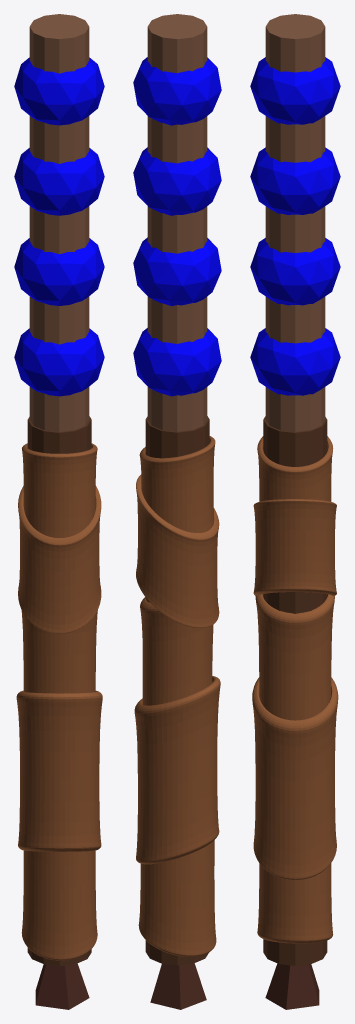
The model's file is Wand 338.glb.
The picture shows the model from 3 angles, left to right: view 1: azimuth 90°, elevation 25°; view 2: azimuth 150°, elevation 25°; view 3: azimuth 270°, elevation 25°; orthographic projection.
Parts seen in each view (by area): view 1: GeneratedWand; view 2: GeneratedWand; view 3: GeneratedWand.
Boxes of the visible parts, left/top/right/bottom form: GeneratedWand: left=14, top=14, right=104, bottom=1009; GeneratedWand: left=133, top=14, right=221, bottom=1009; GeneratedWand: left=250, top=14, right=340, bottom=1009.
Size of the model in its own units: 0.0408 by 0.5074 by 0.0428.
